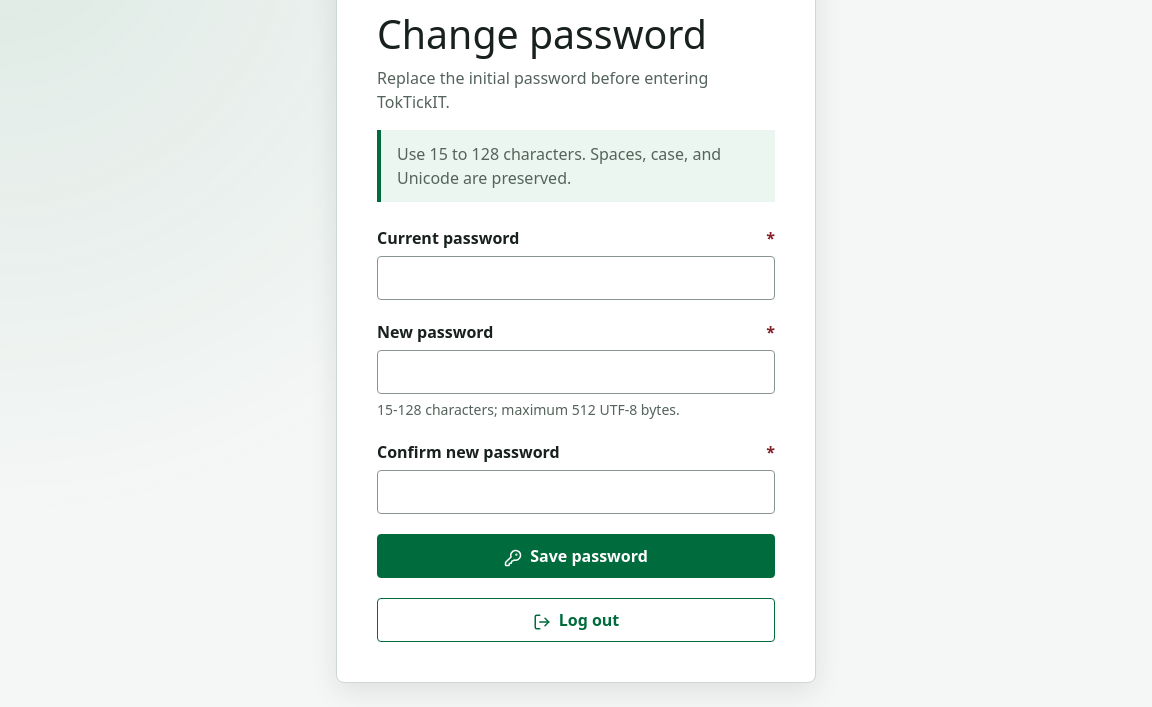
Test case: Lab 3 authentication UI › allows a restricted user to log out before changing the initial password
This screenshot has width=1152, height=707.
(page scrolled)
Step 1. Click the button "Log out" → {"x": 576, "y": 620}, box [377,598,775,642]
(page scrolled)
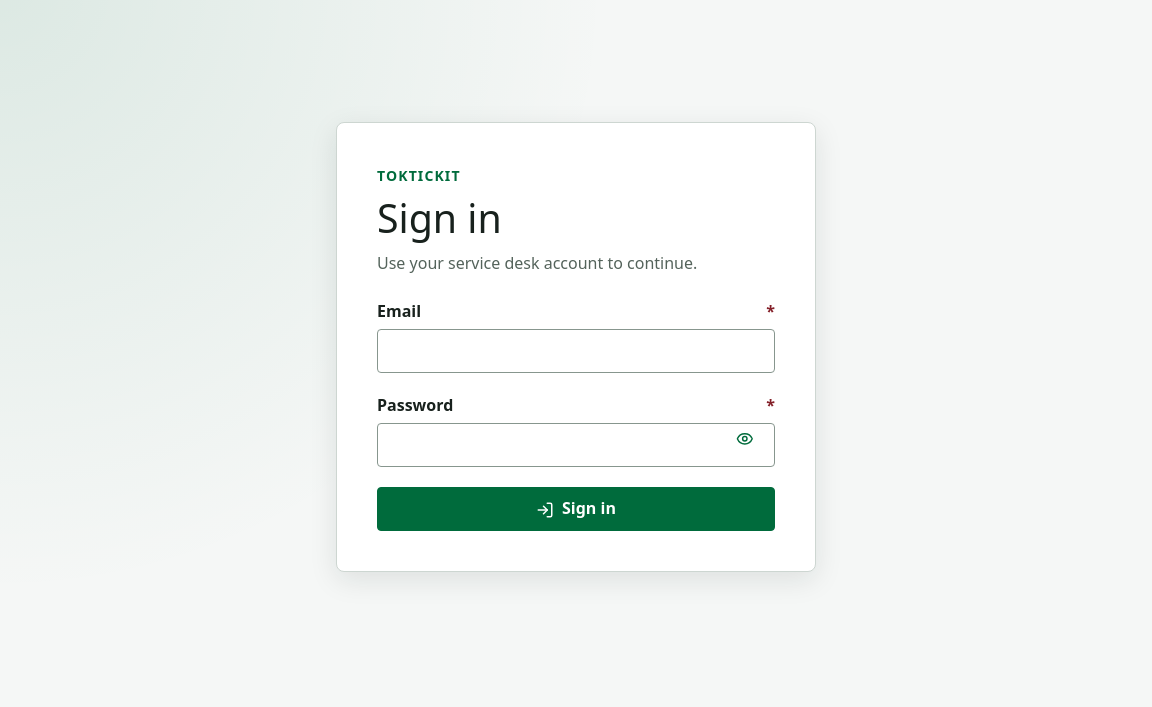
Result: the heading "Sign in" is shown at [377,191,502,245]
